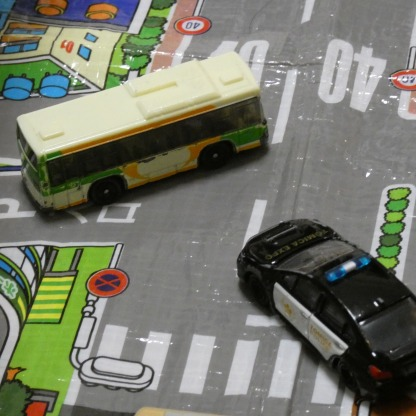car: (10, 49, 272, 213), (225, 217, 416, 409)
